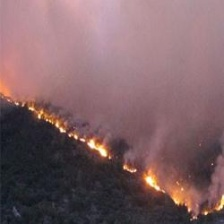fire: (11, 94, 224, 218)
